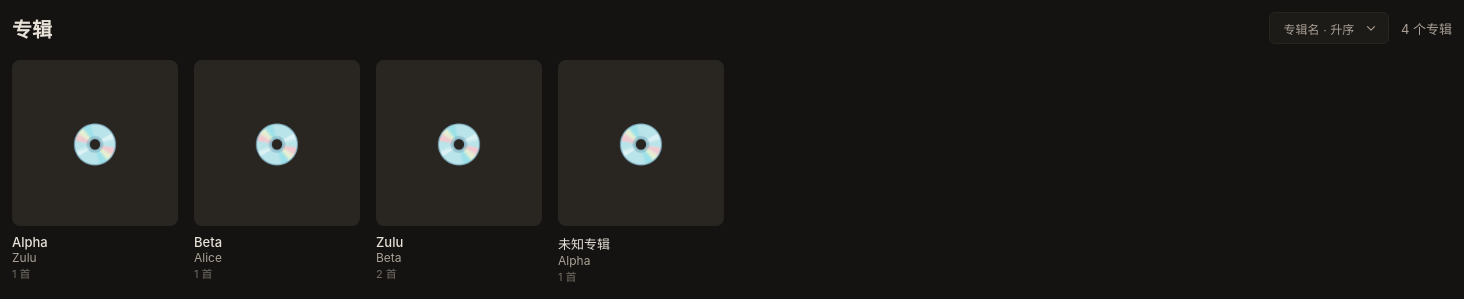
Albums › 切换方向后再切换字段应该保留当前方向
The image size is (1464, 299).
Click the button "专辑名 · 升序": (1329, 28) [1269, 12, 1389, 44]
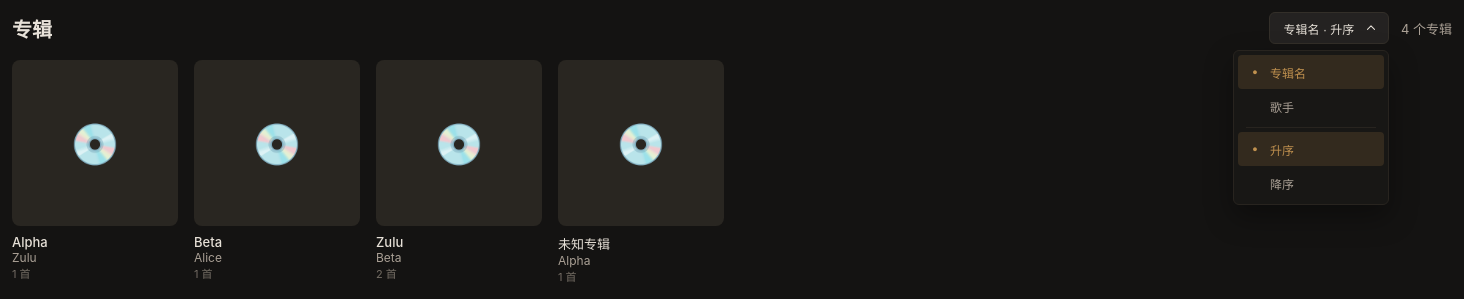
Click the menu item "歌手": (1311, 106) [1238, 89, 1384, 123]
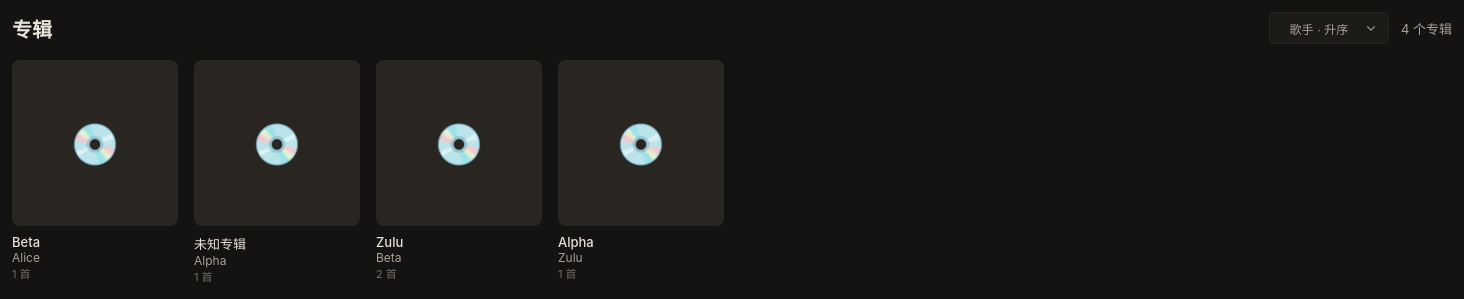
Click the button "歌手 · 升序": (1329, 28) [1269, 12, 1389, 44]
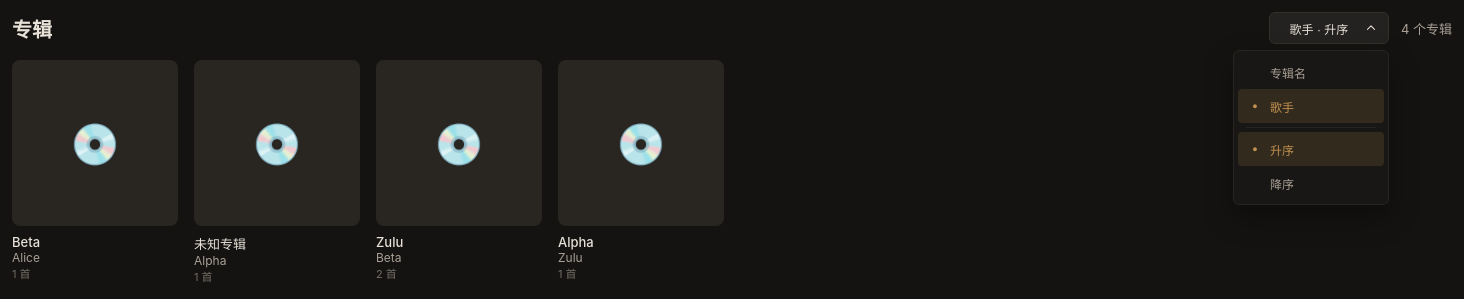
Click the menu item "降序": (1311, 183) [1238, 166, 1384, 200]
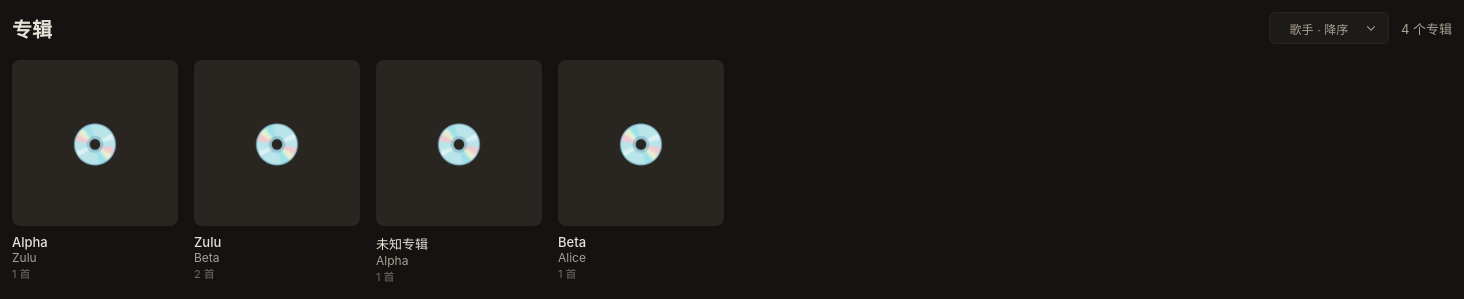
Check: the button "歌手 · 降序" is shown
Click the button "歌手 · 降序": (1329, 28) [1269, 12, 1389, 44]
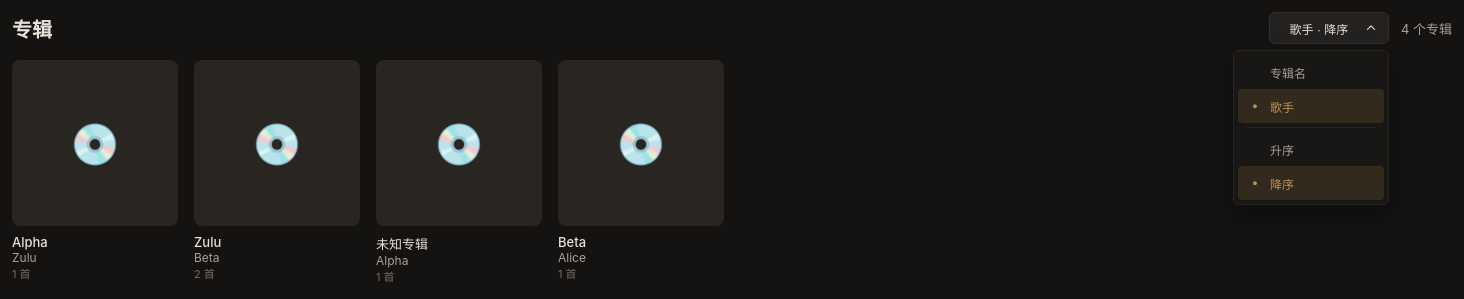
Click the menu item "专辑名": (1311, 72) [1238, 55, 1384, 89]
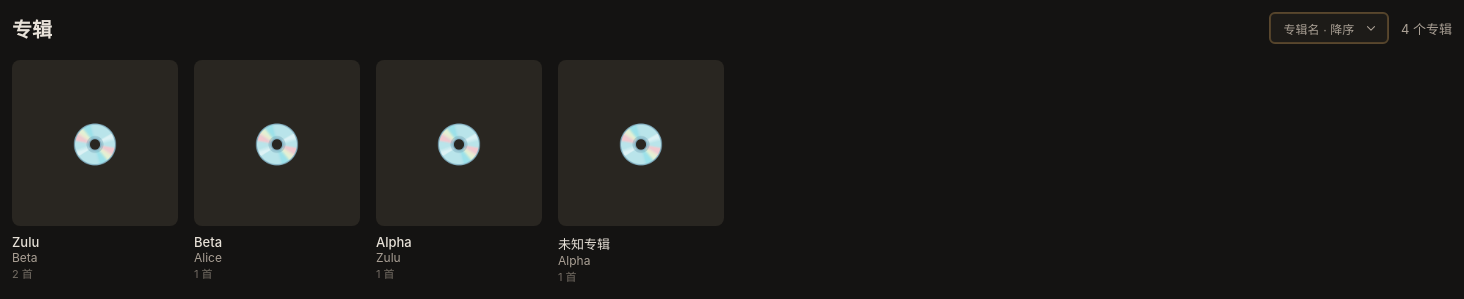
Check: the button "专辑名 · 降序" is shown, box [1269, 12, 1389, 44]
